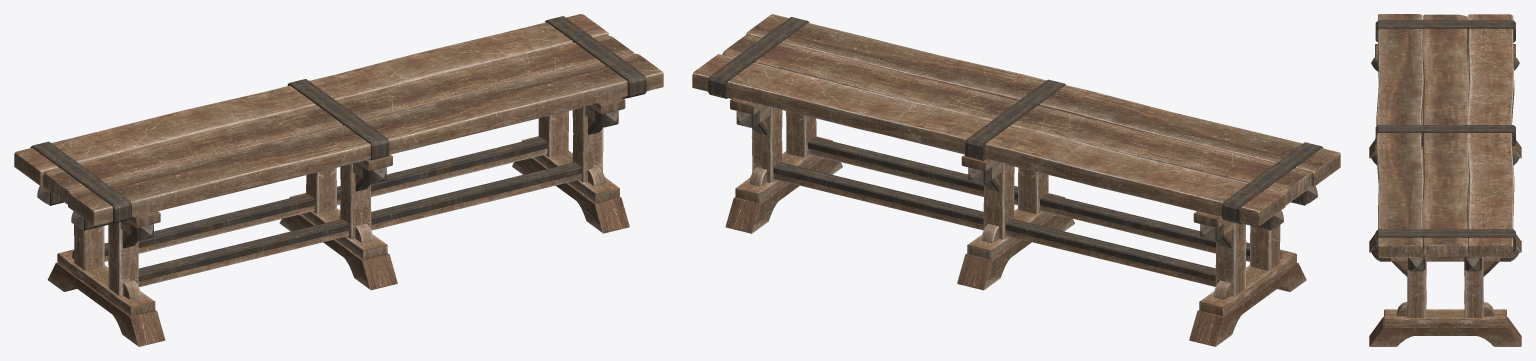
3 renders of one model, left to right at view 1: azimuth 30°, elevation 25°; view 2: azimuth 150°, elevation 25°; view 3: azimuth 270°, elevation 25°, orthographic. The views are drawn at different scales.
Parts seen in each view (by area): view 1: SM_DR_Table_A_03_01_LOD0; view 2: SM_DR_Table_A_03_01_LOD0; view 3: SM_DR_Table_A_03_01_LOD0.
Part boxes in pixels (<box>): SM_DR_Table_A_03_01_LOD0: <box>14,14,663,346</box>; SM_DR_Table_A_03_01_LOD0: <box>692,14,1340,346</box>; SM_DR_Table_A_03_01_LOD0: <box>1369,14,1521,346</box>.
Size of the model in its own units: 4.69 by 1.12 by 1.3.
Materials: 3 (3 with a texture image).
